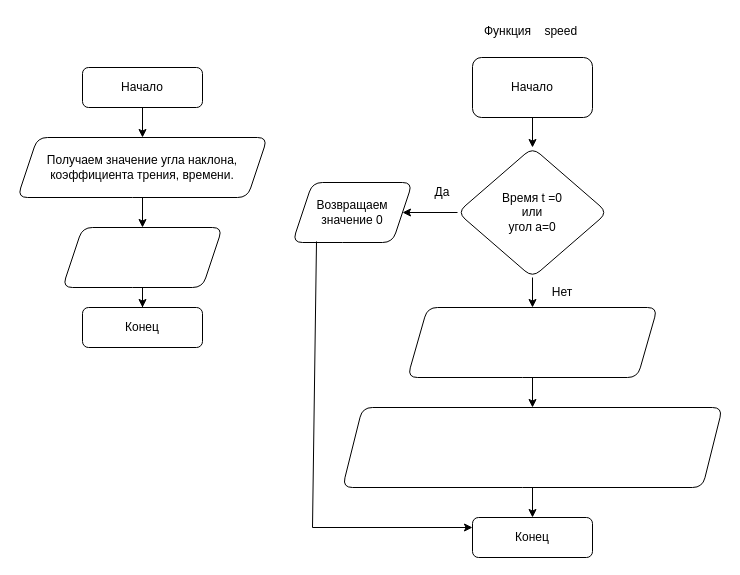
Image size: 740x575. Some labels were removed from this diagram. The centre of each missing label's shape, as x and y in pixels:
возвращаем значение выражения: t*g*sin((a*3.14/180)-m*cos(a*3.14/180)): pixel 532 447
Вызываем функцию speed: pixel 142 257
Инициализируем переменную g=9.81 - гравитационная постоянная.: pixel 532 342
